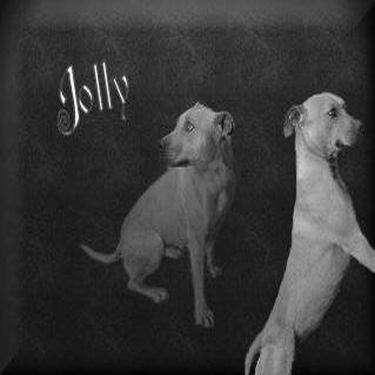dog: (74, 94, 243, 339), (242, 85, 368, 370)
